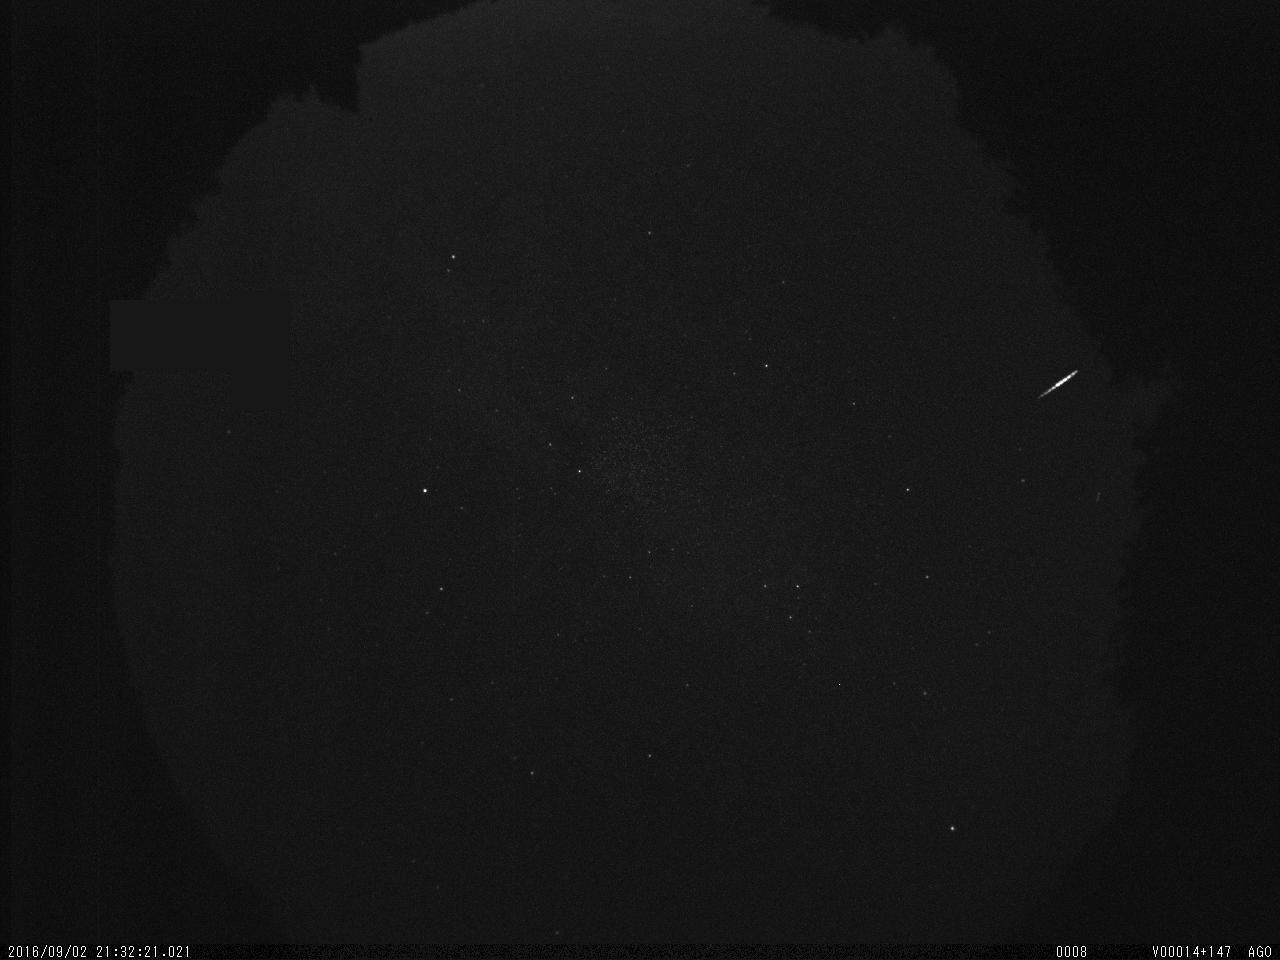meteor: (1020, 349, 1105, 413)
